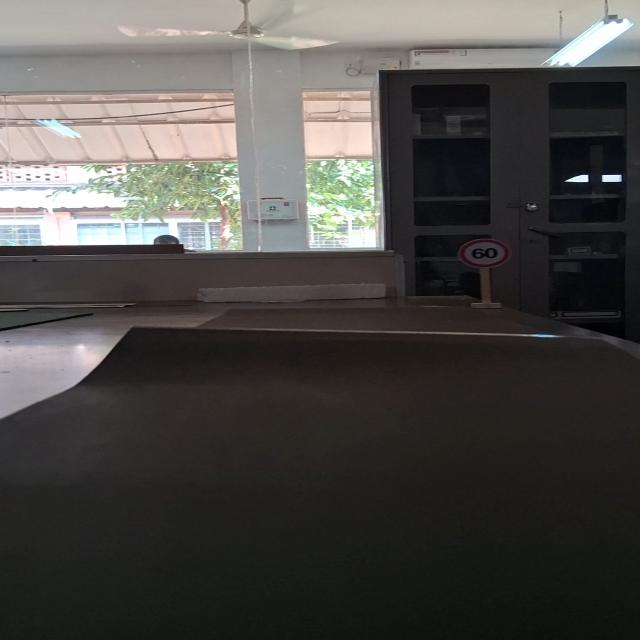Speed60: (457, 238, 512, 269)
